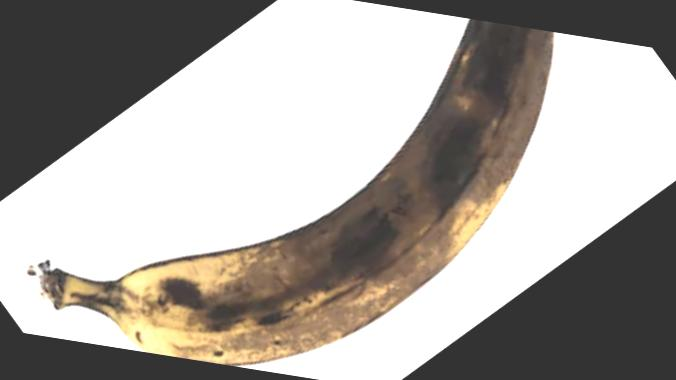Banana Overripe: (8, 0, 586, 380)
